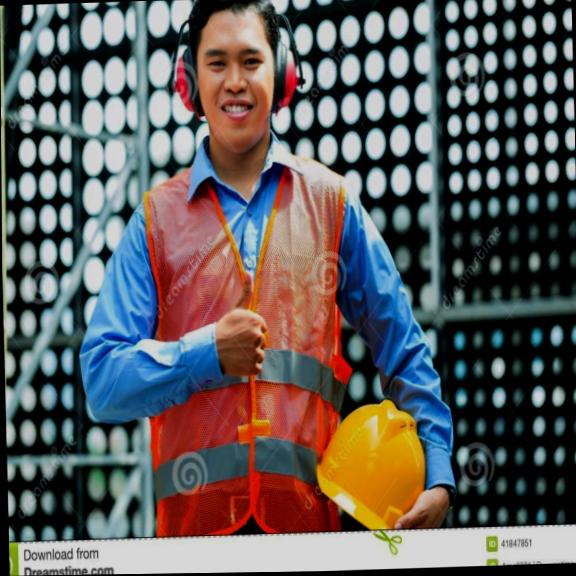safety_vest: (137, 162, 356, 538)
